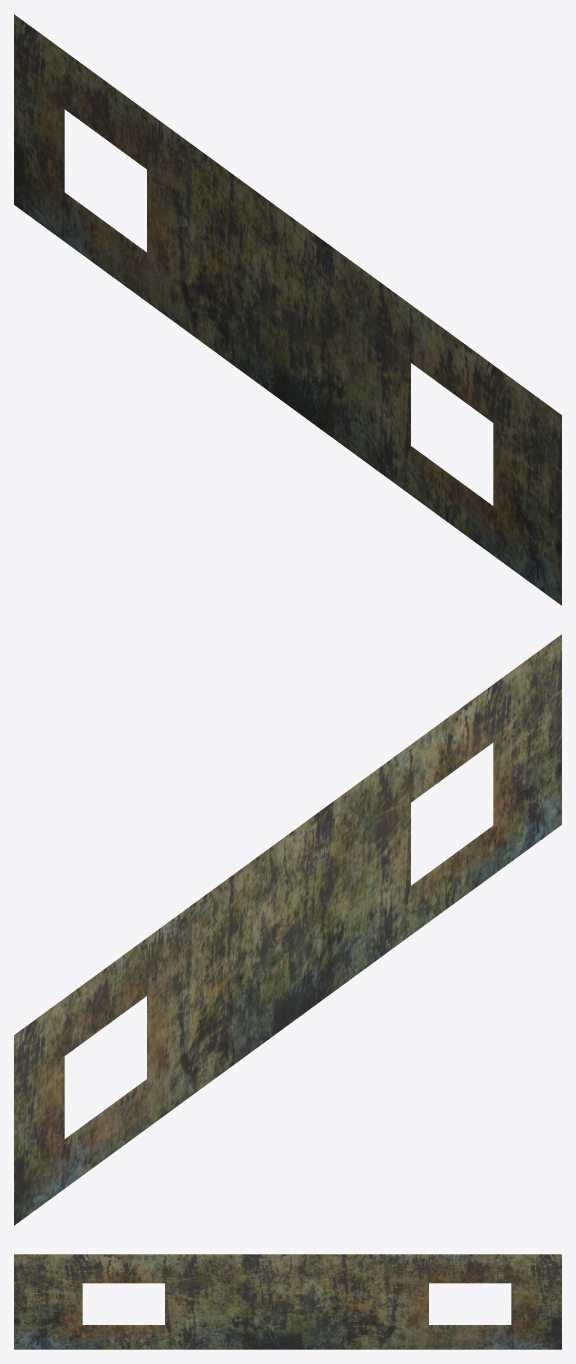
The model's file is Wall_03.FBX.
3 views of the same model, one above another, from view 1: azimuth 30°, elevation 25°; view 2: azimuth 150°, elevation 25°; view 3: azimuth 270°, elevation 25° (orthographic). The views are drawn at different scales.
Visible parts, largest first — view 1: Wall_03; view 2: Wall_03; view 3: Wall_03.
Part boxes in pixels (bbox=[...]): Wall_03: bbox=[14, 14, 561, 605]; Wall_03: bbox=[14, 634, 561, 1225]; Wall_03: bbox=[14, 1254, 561, 1349].
Size of the model in its own units: 0.0116 by 320 by 1667.
